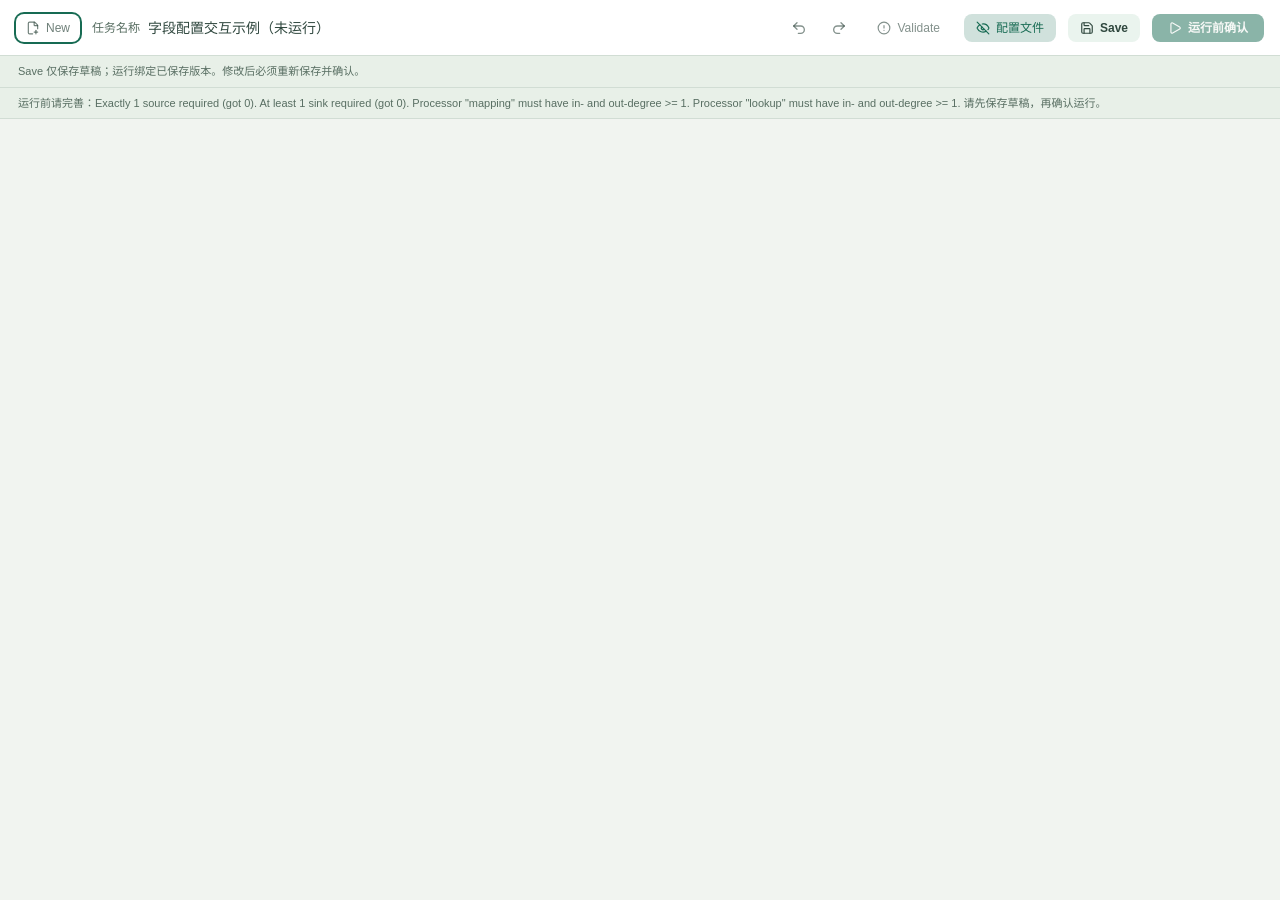
Test: cancel preserves the full graph, config, identity, history, modes and browser draft, and restores focus
Click the button with aria-label "Start a new pipeline" at {"x": 48, "y": 28}, box [16,14,80,42]
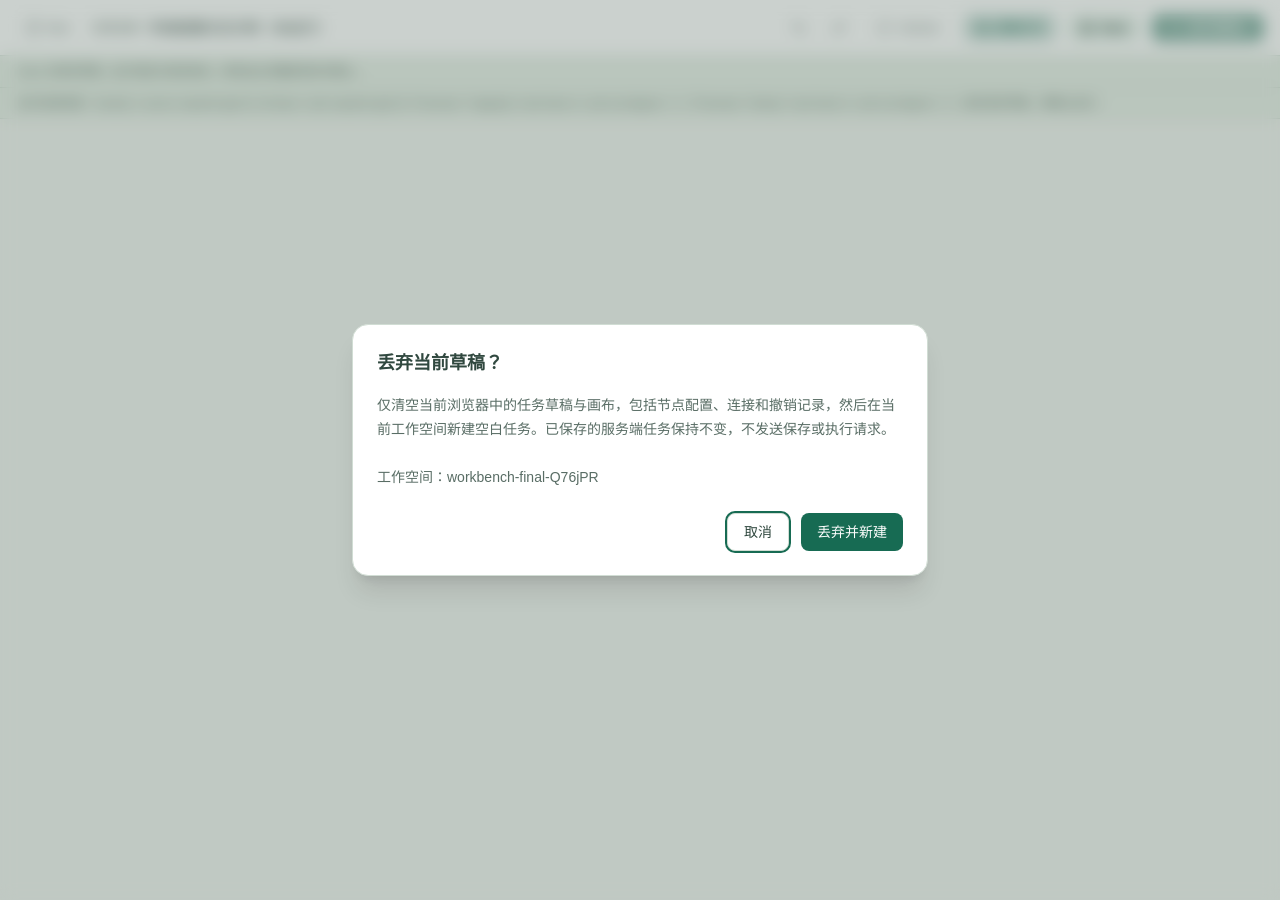
Click the button "取消" at {"x": 758, "y": 532}, box [727,513,789,551]
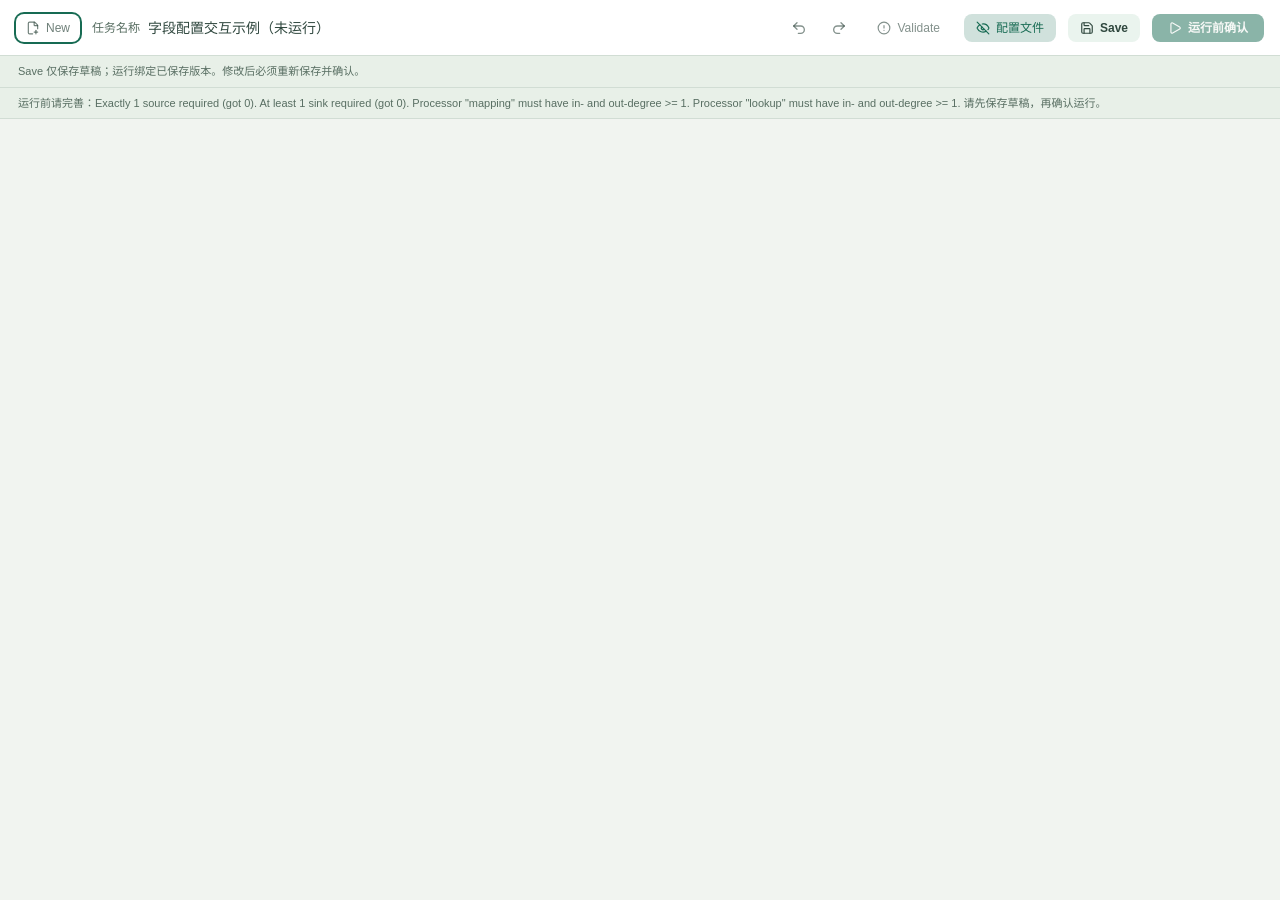
Now the dialog is gone
